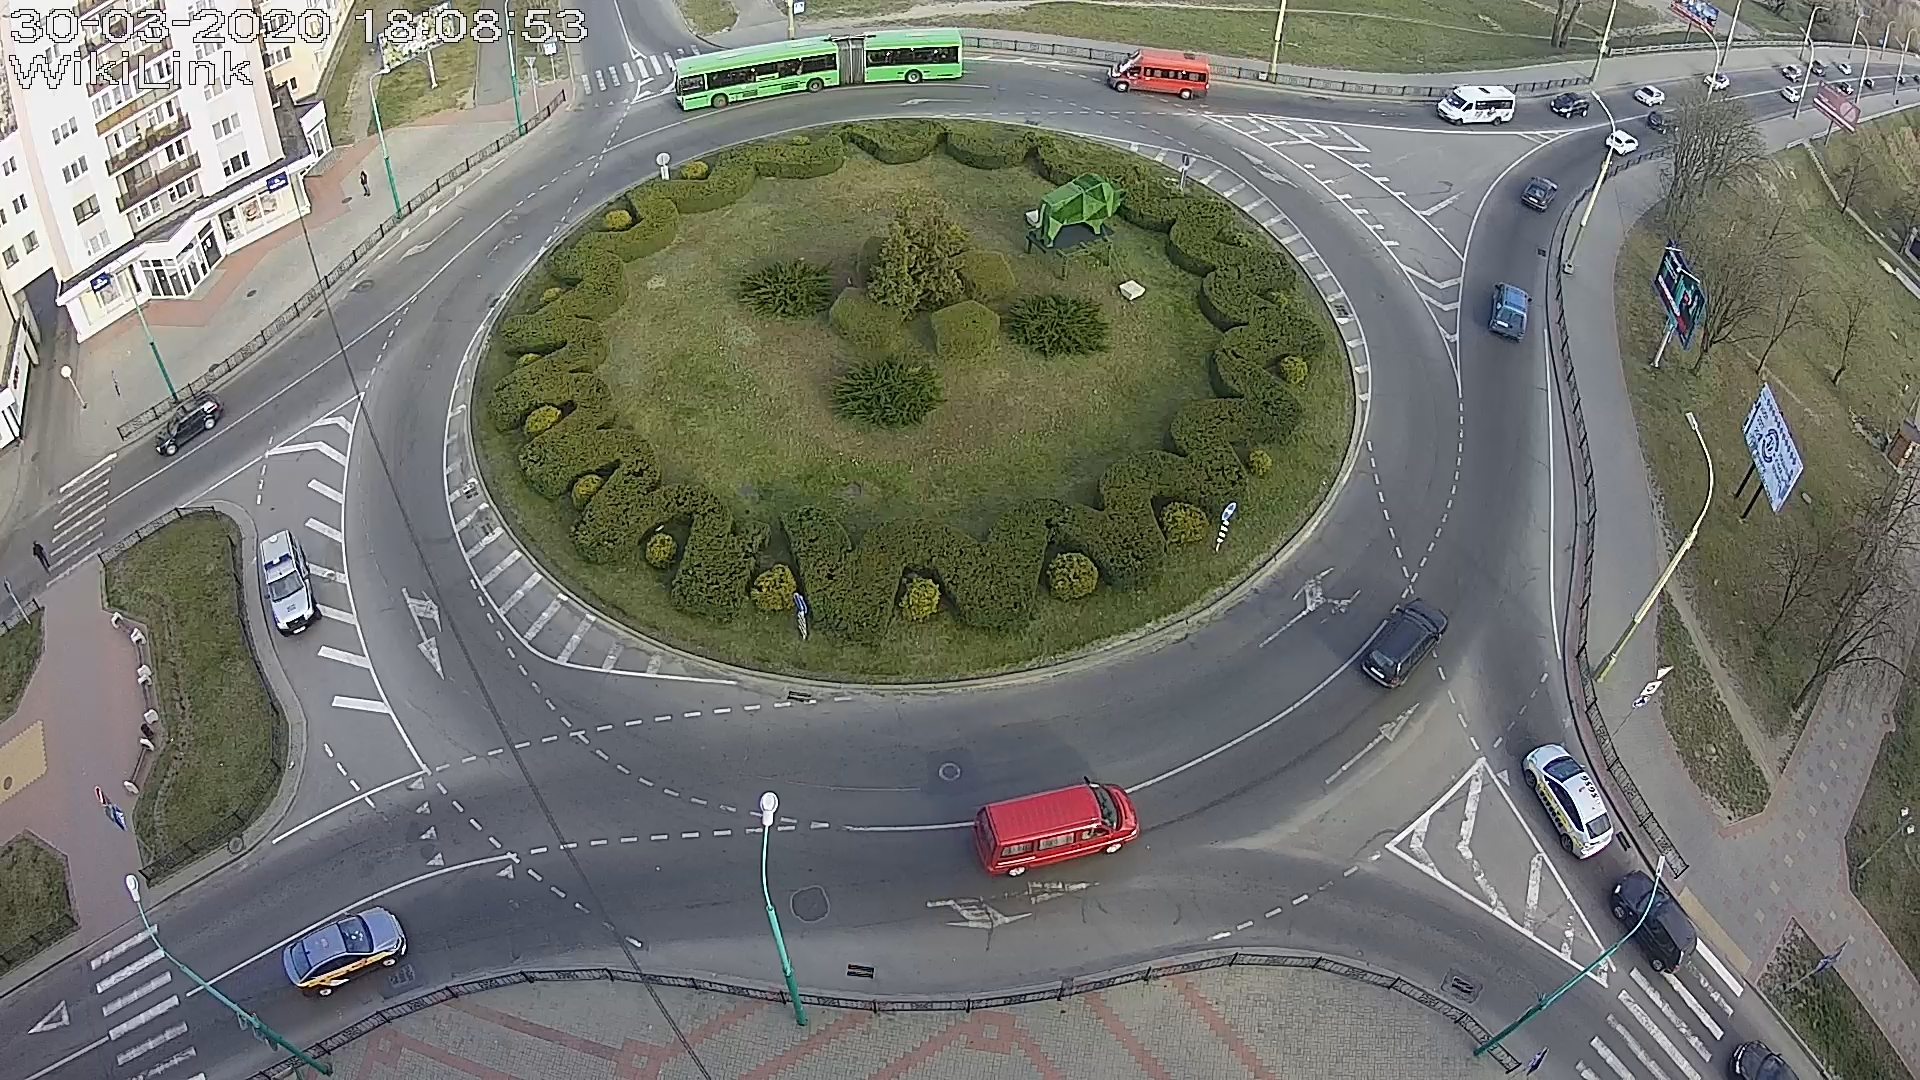bus: (673, 26, 963, 112)
car: (972, 775, 1141, 877), (282, 906, 407, 997), (1522, 742, 1614, 860), (1610, 869, 1697, 975), (1361, 597, 1448, 688), (258, 529, 322, 637), (1106, 47, 1211, 100), (154, 392, 224, 456), (1436, 86, 1516, 127), (1487, 281, 1534, 344), (1520, 175, 1559, 212), (1549, 91, 1588, 119), (1605, 129, 1639, 157), (1633, 84, 1667, 107)
